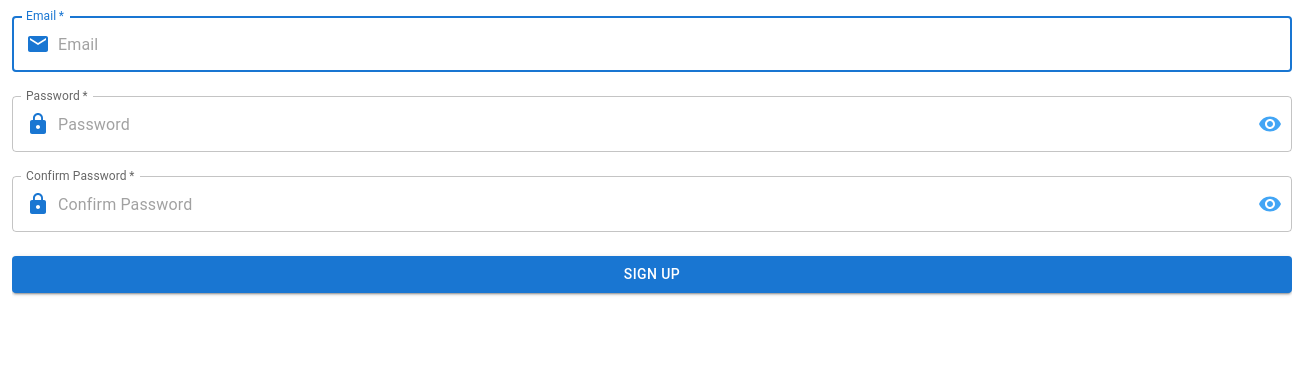
it: Form › should show error message if passwords do not match
In the password field with test id "password-input-field": point(650, 124) [58,96,1242,152], type "P4ssw0rd"
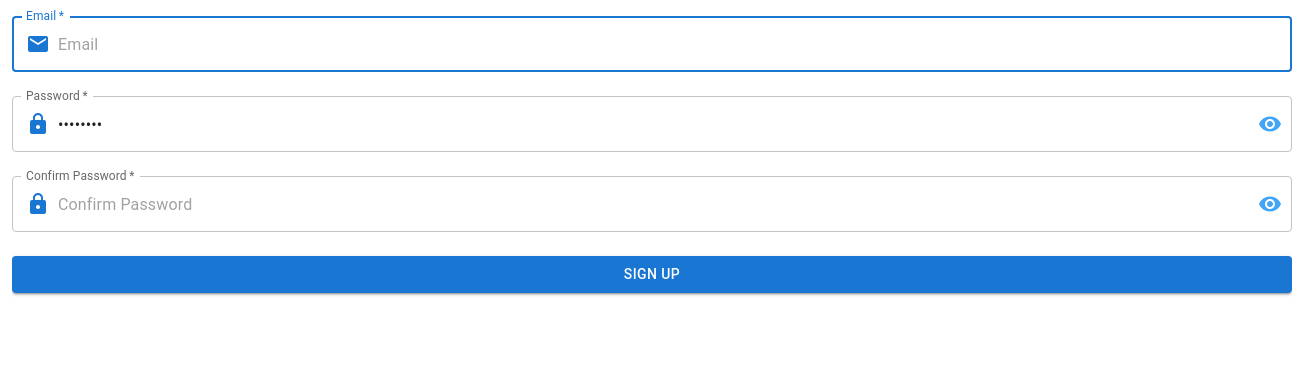
In the password field with test id "confirm-password-input-field": point(650, 204) [58,176,1242,232], type "dummy"
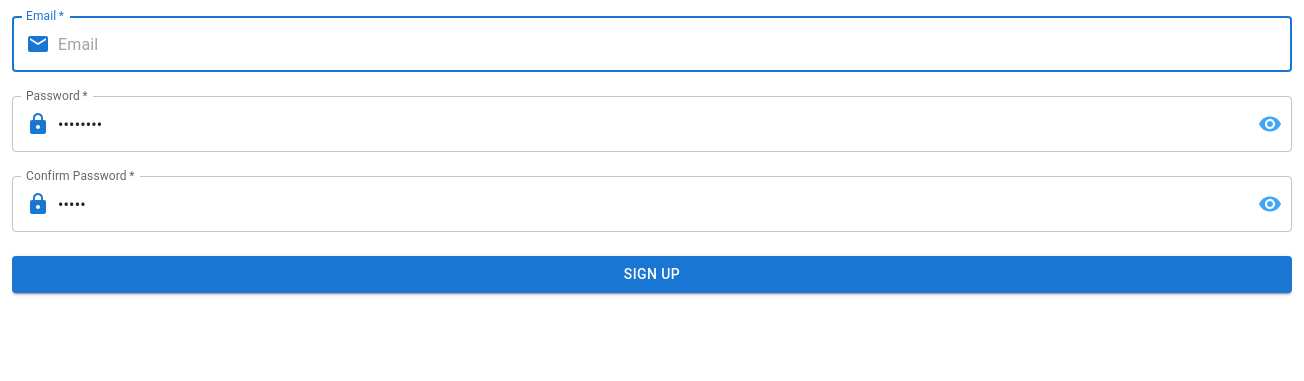
Click the button with test id "sign-up-button": point(652, 274) [12,256,1292,292]
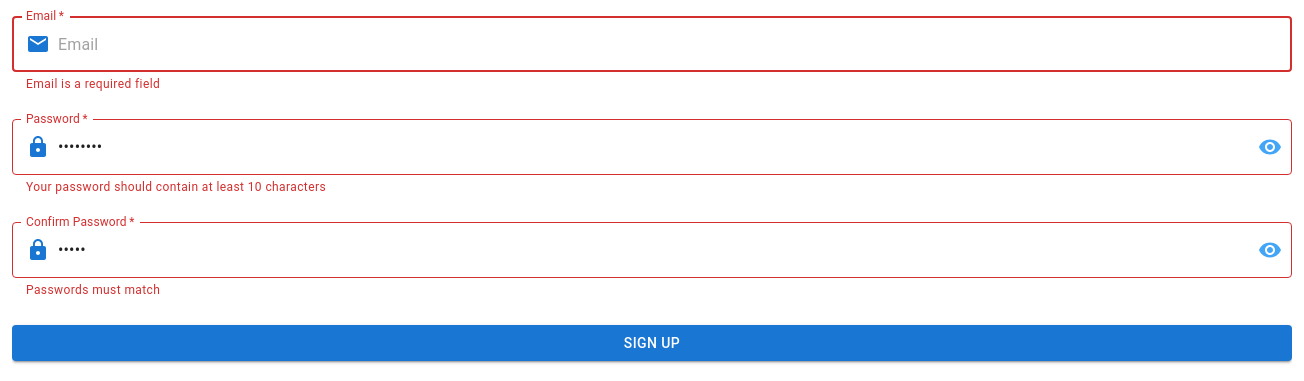
Now the element with test id "confirm-password" shows "Passwords must match", box [26,283,160,297]
